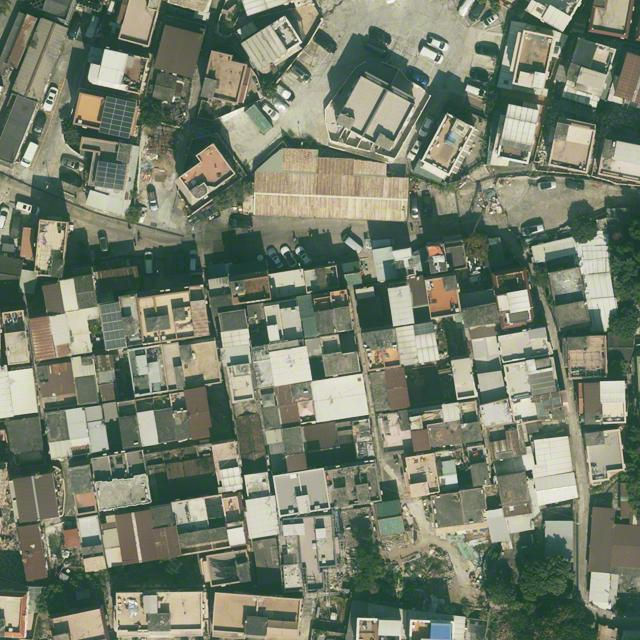panel: (99, 96, 137, 139), (100, 302, 128, 350), (95, 161, 127, 190)
